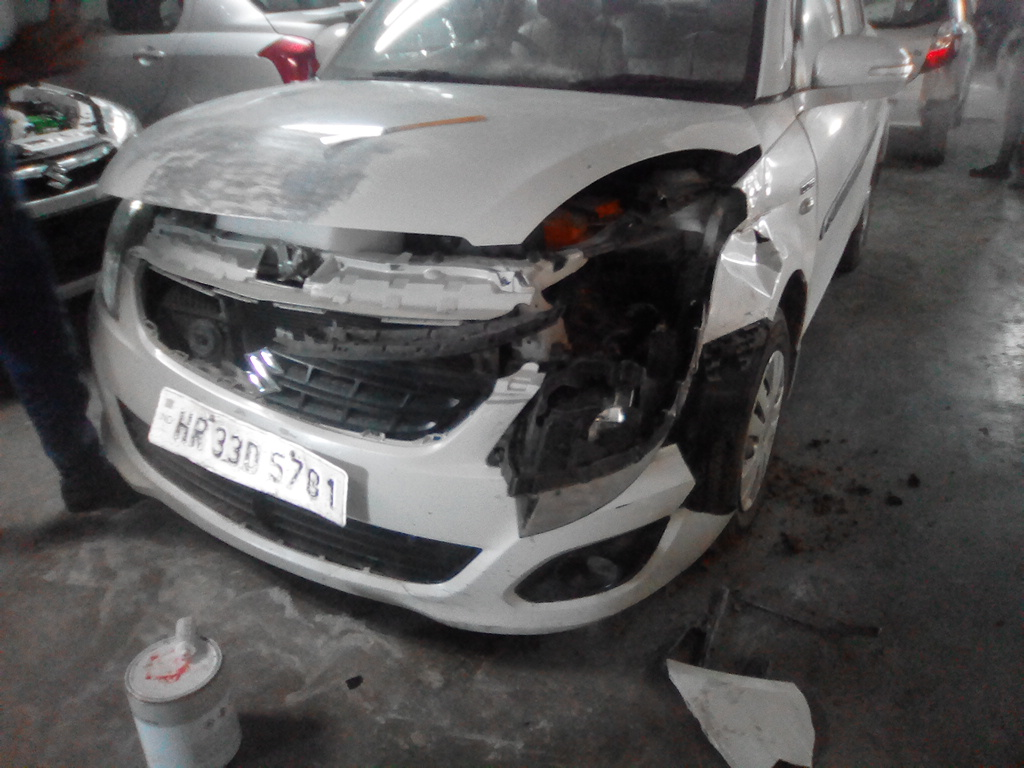Large_tear_or_damage: (114, 114, 762, 532)
